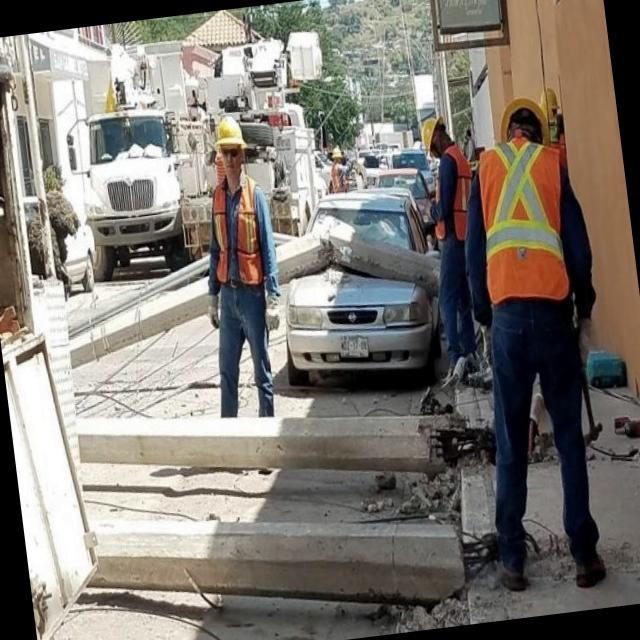Broken Pole: (70, 232, 441, 370), (85, 524, 468, 604), (74, 409, 498, 474)
